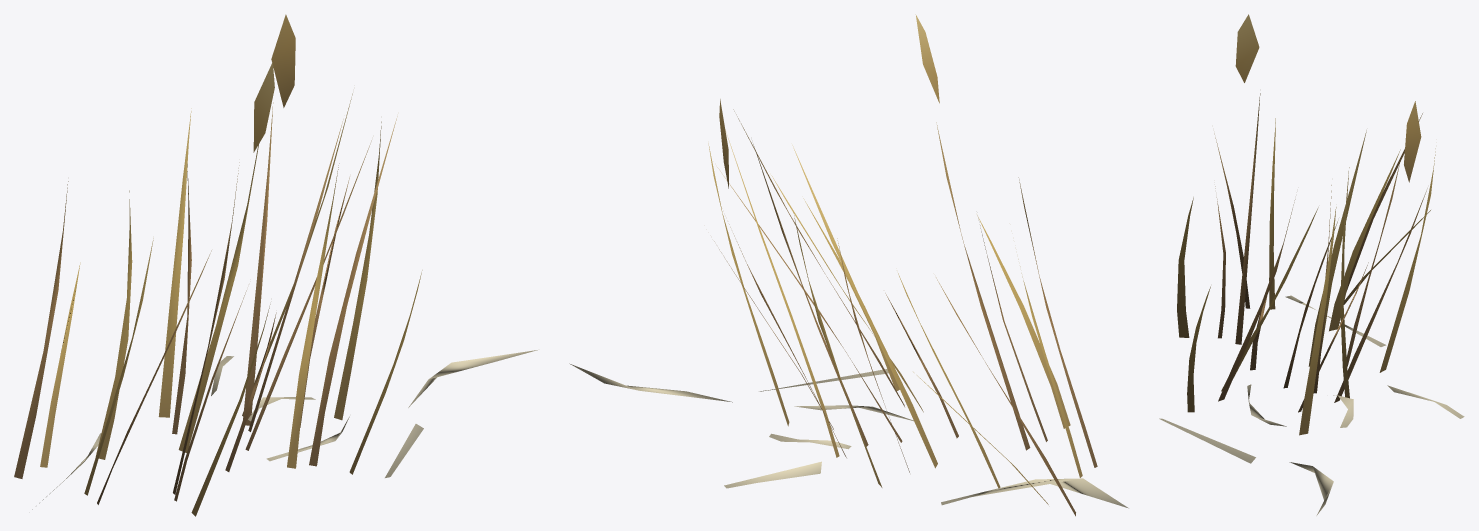
File: BrittleGrassClump_LOD0.glb
3 views of the same model, side by side, from view 1: azimuth 30°, elevation 25°; view 2: azimuth 150°, elevation 25°; view 3: azimuth 270°, elevation 25° (orthographic). The views are drawn at different scales.
Parts seen in each view (by area): view 1: BrittleGrassClump_LOD0; view 2: BrittleGrassClump_LOD0; view 3: BrittleGrassClump_LOD0.
Boxes of the visible parts, bbox=[...] form: BrittleGrassClump_LOD0: bbox=[14, 14, 537, 516]; BrittleGrassClump_LOD0: bbox=[569, 14, 1128, 516]; BrittleGrassClump_LOD0: bbox=[1159, 14, 1464, 515].
Bounding box in the file's own units: 0.3422 × 0.2542 × 0.1822.
